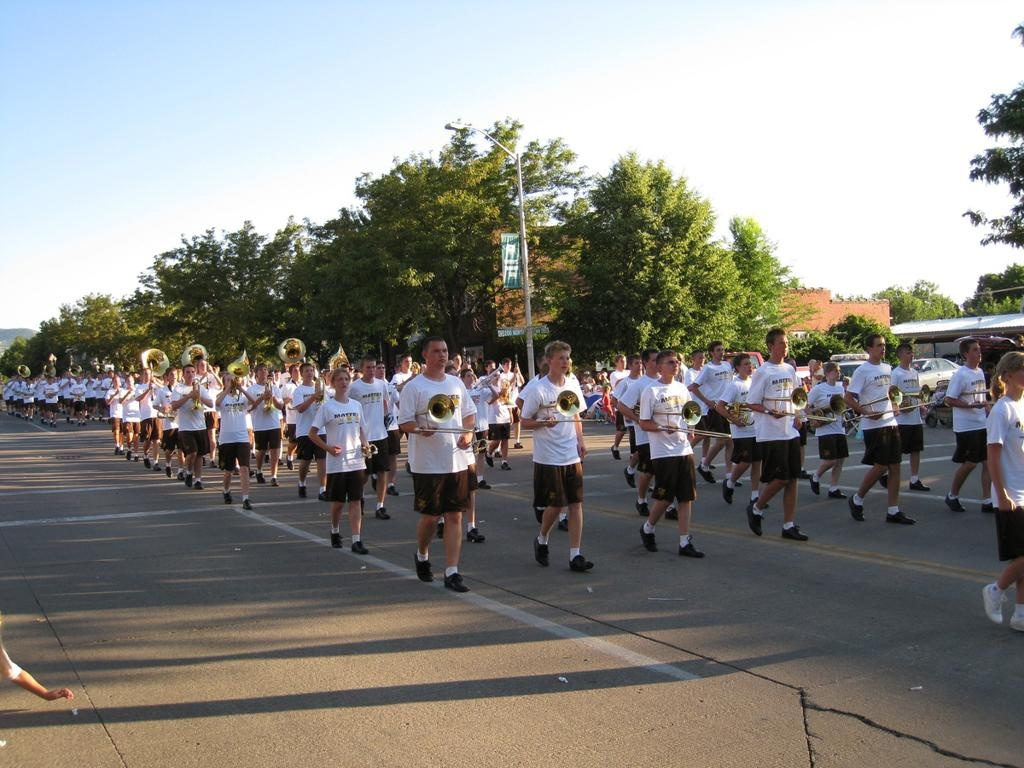human_face: (428, 340, 448, 366), (552, 348, 570, 372), (772, 334, 788, 356), (1012, 363, 1024, 389), (663, 356, 679, 374), (647, 352, 661, 372), (967, 342, 981, 362), (872, 337, 884, 359), (334, 372, 348, 390), (364, 360, 376, 376), (712, 344, 724, 360), (738, 358, 750, 374), (902, 347, 914, 363), (302, 367, 314, 381), (224, 376, 236, 388), (256, 368, 268, 380), (184, 367, 194, 381), (402, 356, 412, 370), (694, 352, 704, 366), (830, 365, 840, 379), (787, 360, 797, 374), (167, 370, 177, 382), (463, 371, 473, 383), (632, 359, 642, 371), (144, 368, 152, 380), (292, 367, 300, 379), (376, 364, 384, 376), (618, 357, 626, 369), (198, 362, 206, 372), (453, 354, 461, 364), (486, 362, 494, 372), (274, 372, 282, 380), (494, 371, 500, 381), (114, 378, 120, 386), (126, 378, 134, 384), (504, 362, 510, 370), (40, 375, 44, 379), (49, 377, 53, 381), (65, 372, 69, 376), (108, 372, 112, 376), (87, 372, 91, 376), (18, 376, 20, 380), (26, 379, 28, 383), (77, 377, 79, 381), (98, 373, 100, 377), (476, 358, 478, 362)
